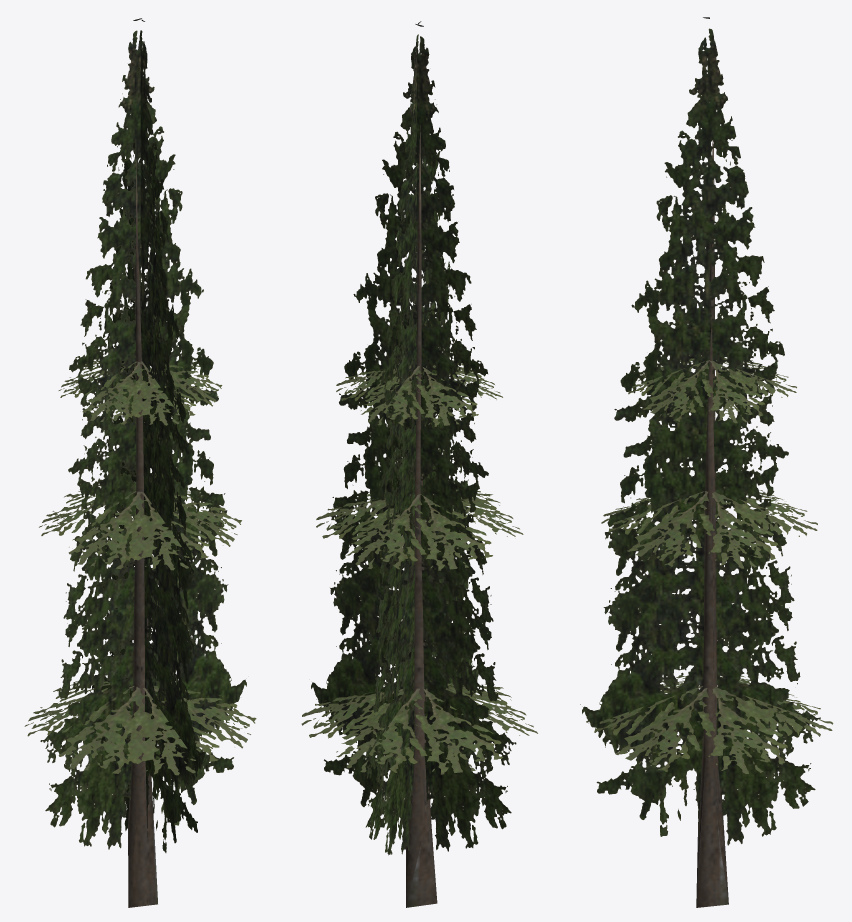
The picture shows the model from 3 angles, left to right: view 1: azimuth 30°, elevation 25°; view 2: azimuth 150°, elevation 25°; view 3: azimuth 270°, elevation 25°; orthographic projection.
Visible parts, largest first — view 1: Background_Tree_Atlas; view 2: Background_Tree_Atlas; view 3: Background_Tree_Atlas.
Boxes of the visible parts, left/top/right/bottom form: Background_Tree_Atlas: left=24, top=18, right=256, bottom=907; Background_Tree_Atlas: left=301, top=21, right=537, bottom=907; Background_Tree_Atlas: left=580, top=17, right=833, bottom=907.
Bounding box in the file's own units: 705 × 697 × 2601.
1 material, 1 textured.
